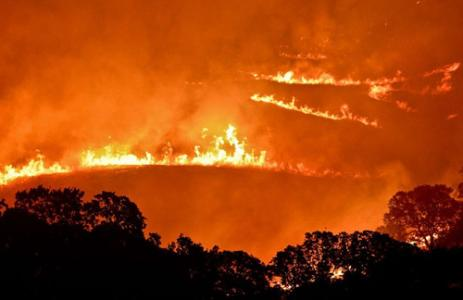fire: (23, 134, 272, 170)
